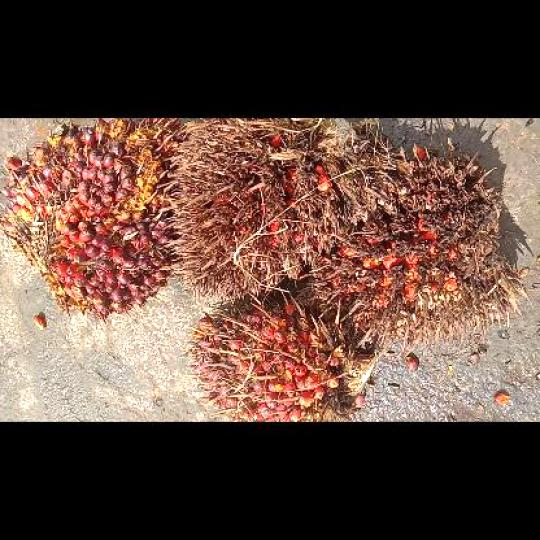masak: (0, 118, 179, 326), (184, 288, 377, 421)
terlalu masak: (297, 136, 529, 362), (160, 118, 380, 303)
